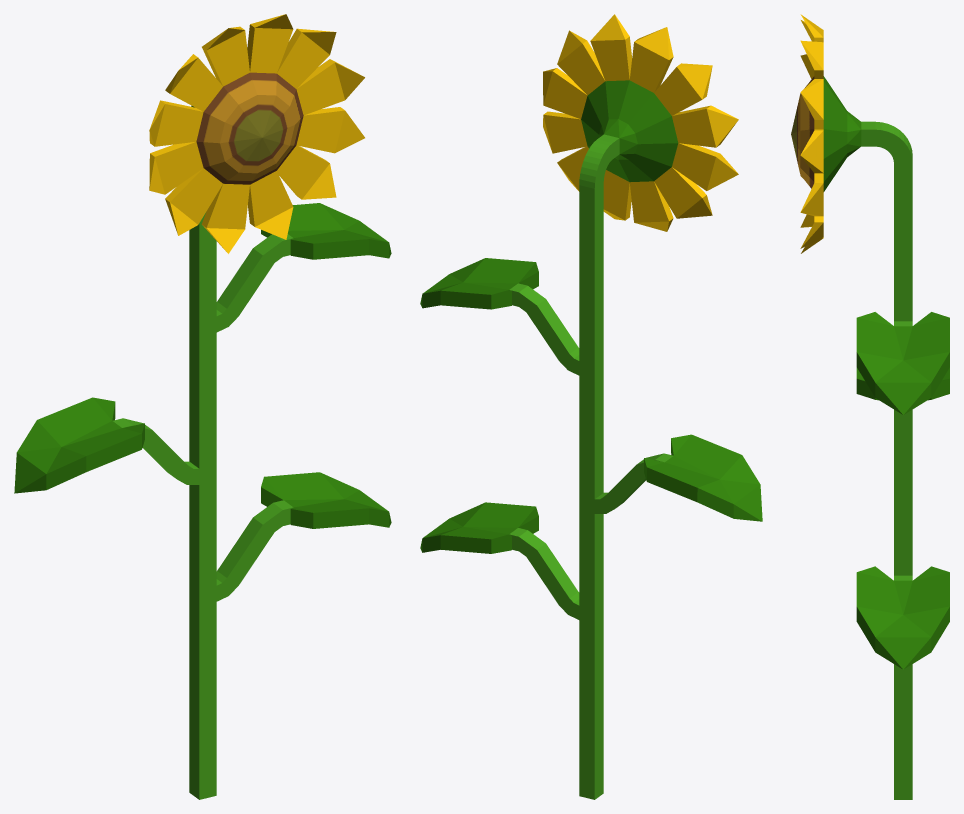
Rendered from Sunflower_01.fbx.
3 renders of one model, left to right at view 1: azimuth 30°, elevation 25°; view 2: azimuth 150°, elevation 25°; view 3: azimuth 270°, elevation 25°, orthographic. The views are drawn at different scales.
Parts seen in each view (by area): view 1: Sunflower_01; view 2: Sunflower_01; view 3: Sunflower_01.
Boxes of the visible parts, x1,y1,x2,y2 form: Sunflower_01: (14,14,391,799); Sunflower_01: (420,14,762,799); Sunflower_01: (791,14,949,799).
Size of the model in its own units: 87.96 by 181 by 33.96.
